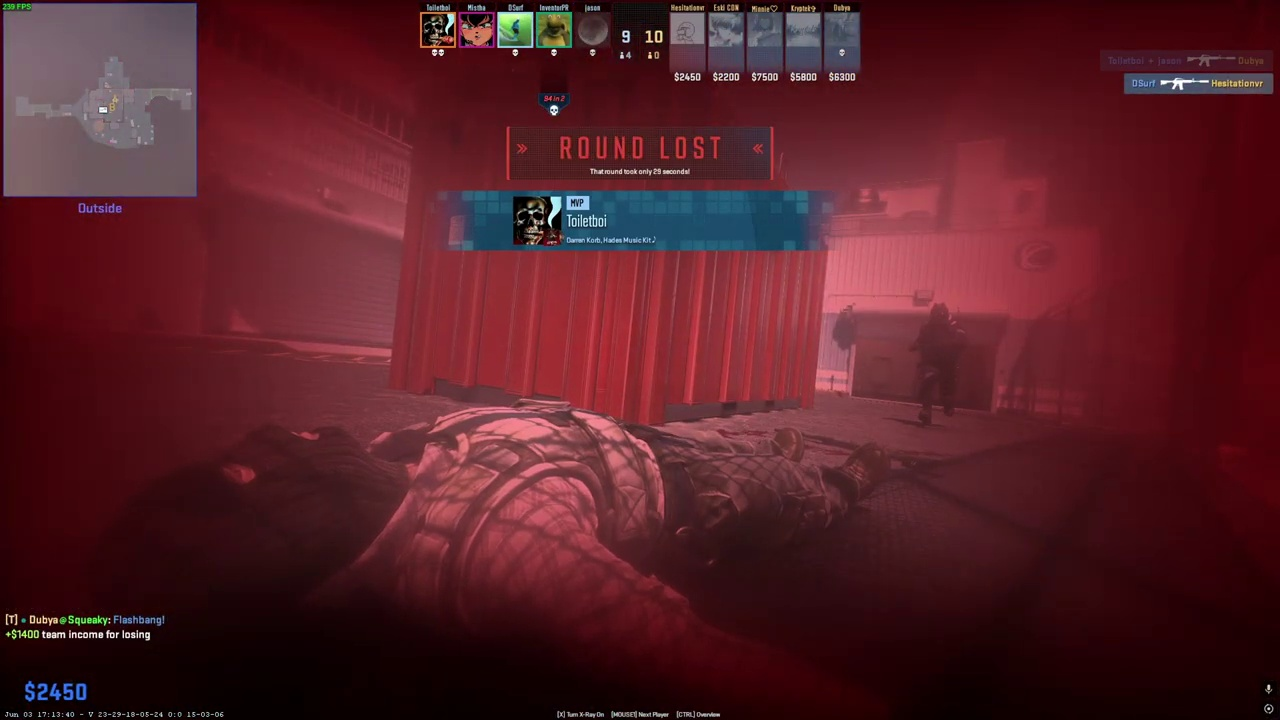CT: (912, 304, 964, 425)
